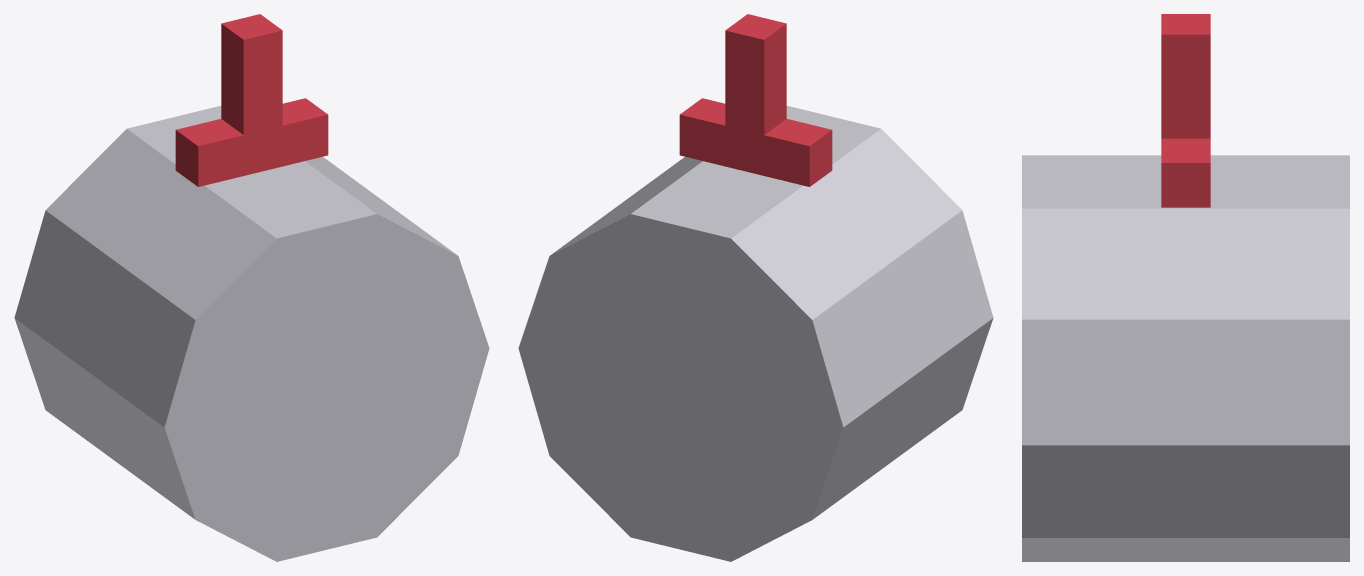
The model's file is bandage.glb.
3 views of the same model, side by side, from view 1: azimuth 30°, elevation 25°; view 2: azimuth 150°, elevation 25°; view 3: azimuth 270°, elevation 25° (orthographic). The views are drawn at different scales.
Parts seen in each view (by area): view 1: model; view 2: model; view 3: model.
Boxes of the visible parts, left/top/right/bottom form: model: left=14, top=14, right=489, bottom=561; model: left=518, top=14, right=993, bottom=561; model: left=1022, top=14, right=1349, bottom=561.
Size of the model in its own units: 0.1 by 0.1376 by 0.08.
